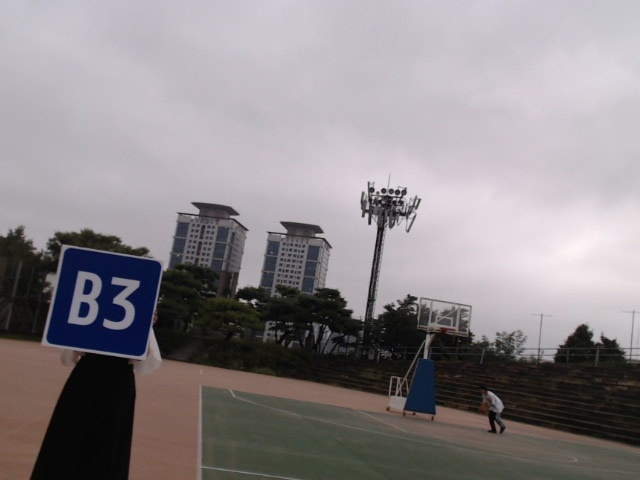delivery_b3: (44, 246, 163, 359)
